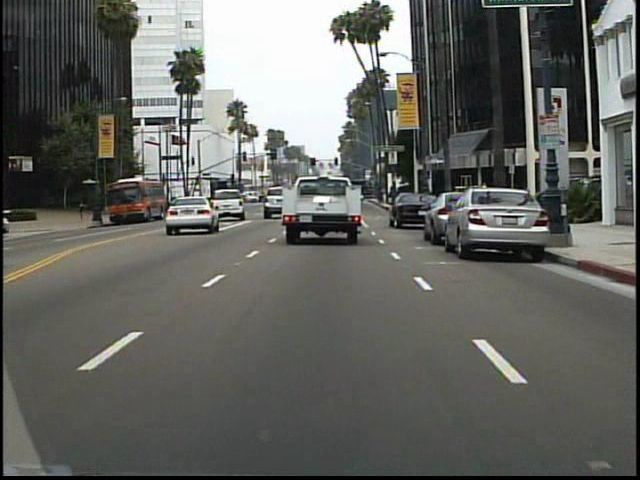person: (477, 179, 493, 219), (76, 195, 92, 229)
